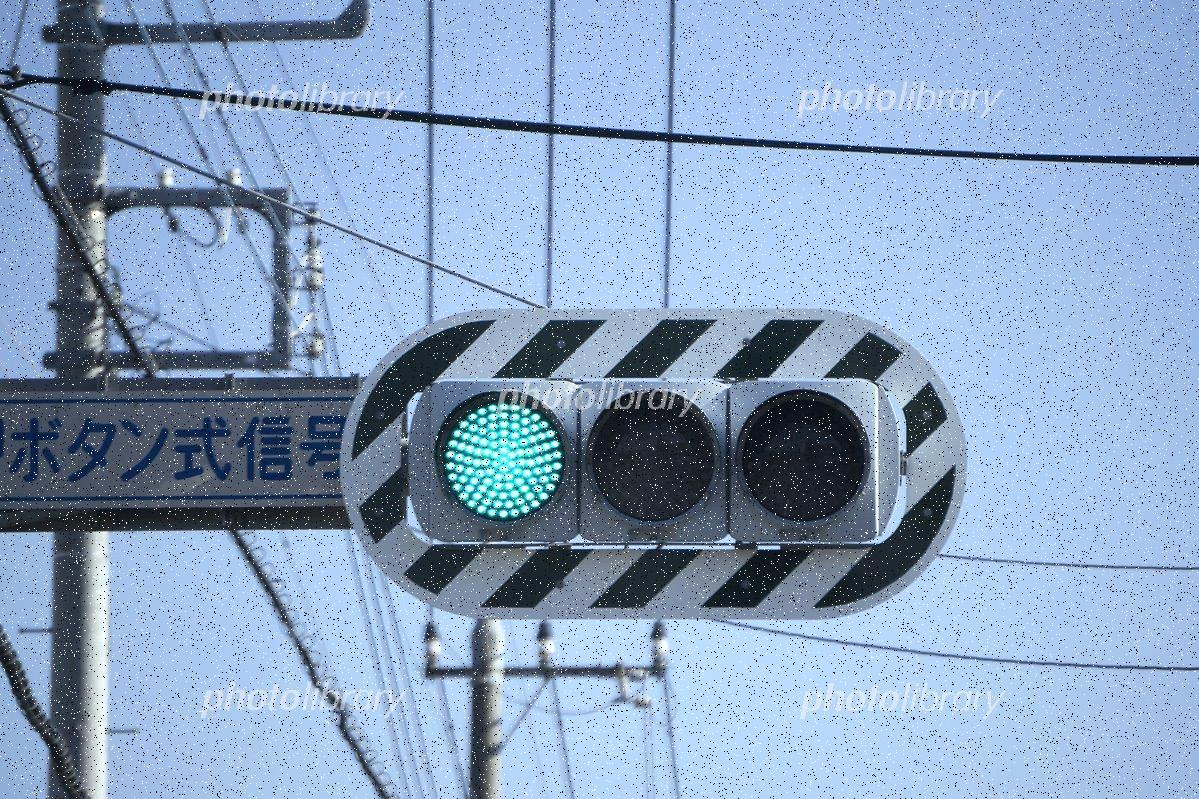cars: (419, 381, 888, 540)
